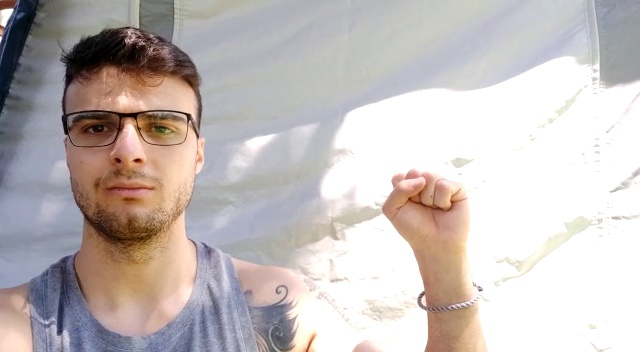Fist: (381, 167, 470, 262)
